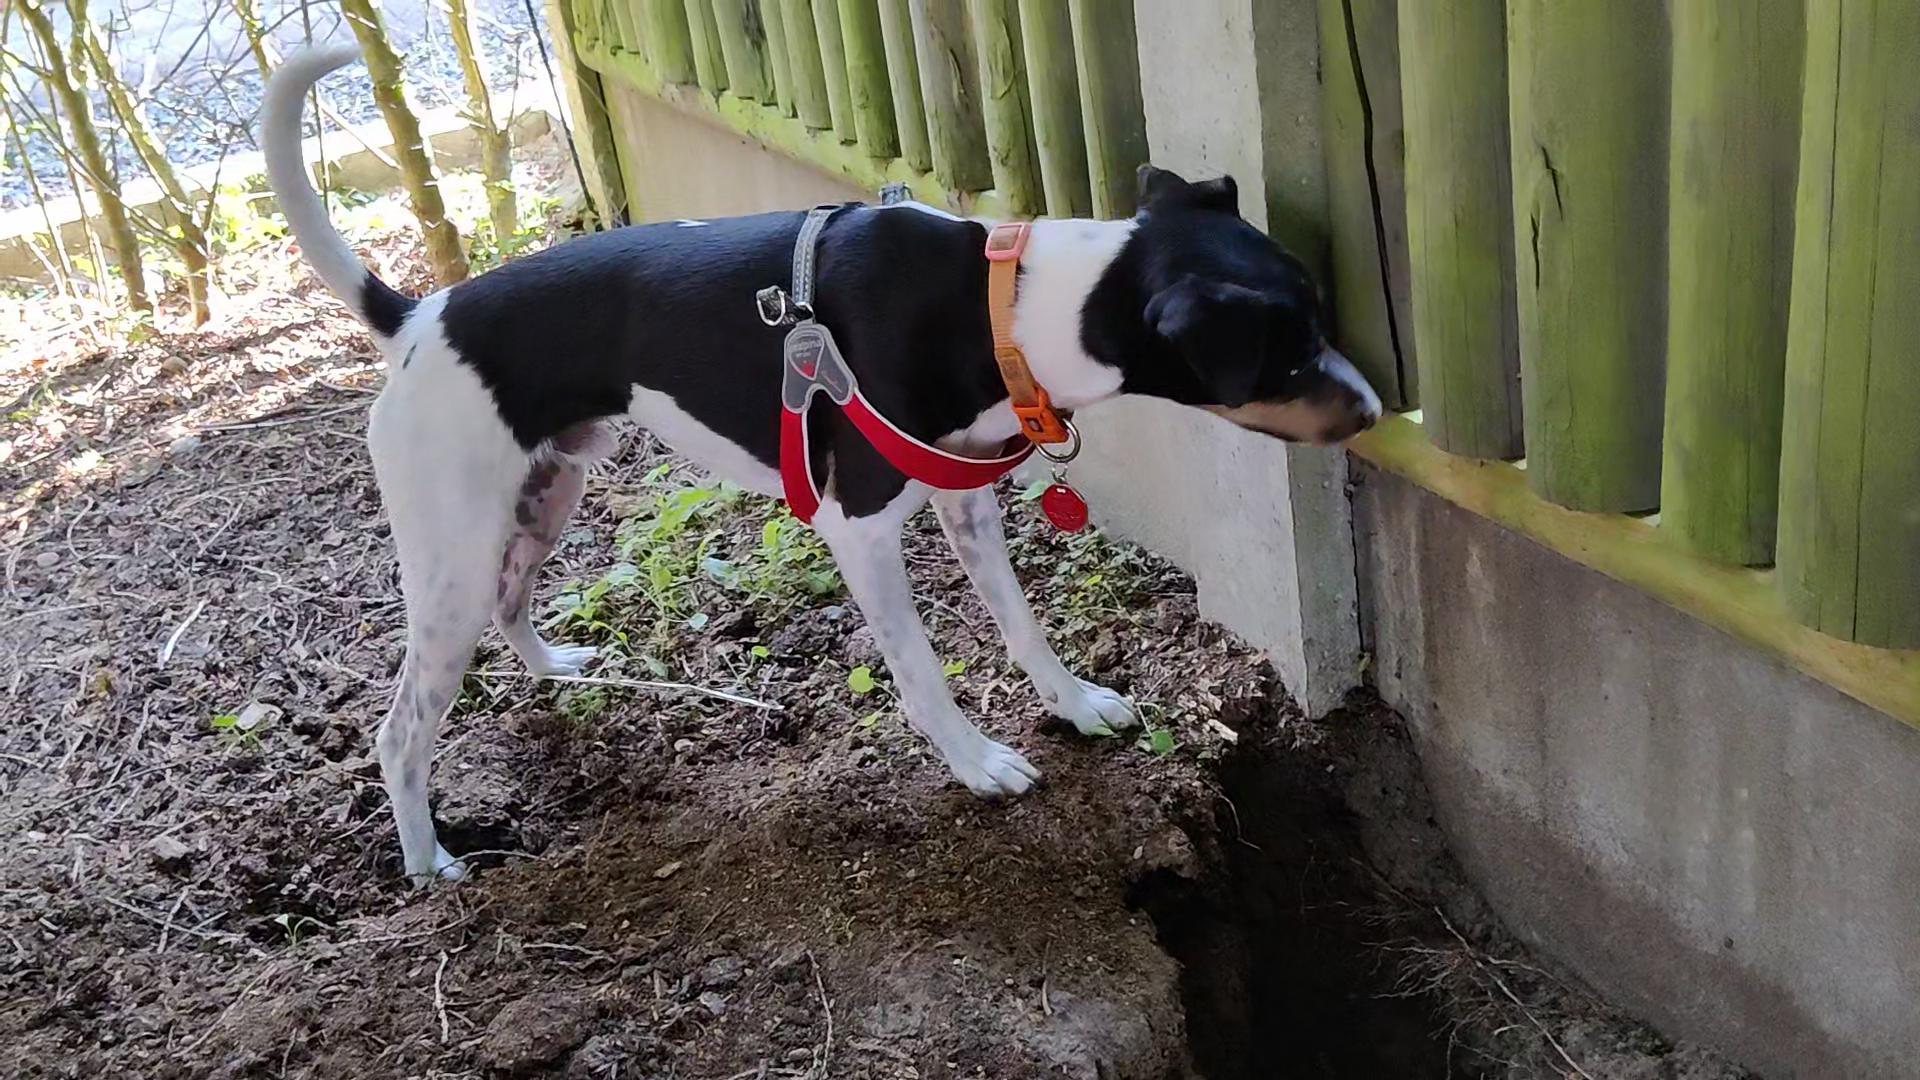Dog: (255, 26, 1389, 901)
